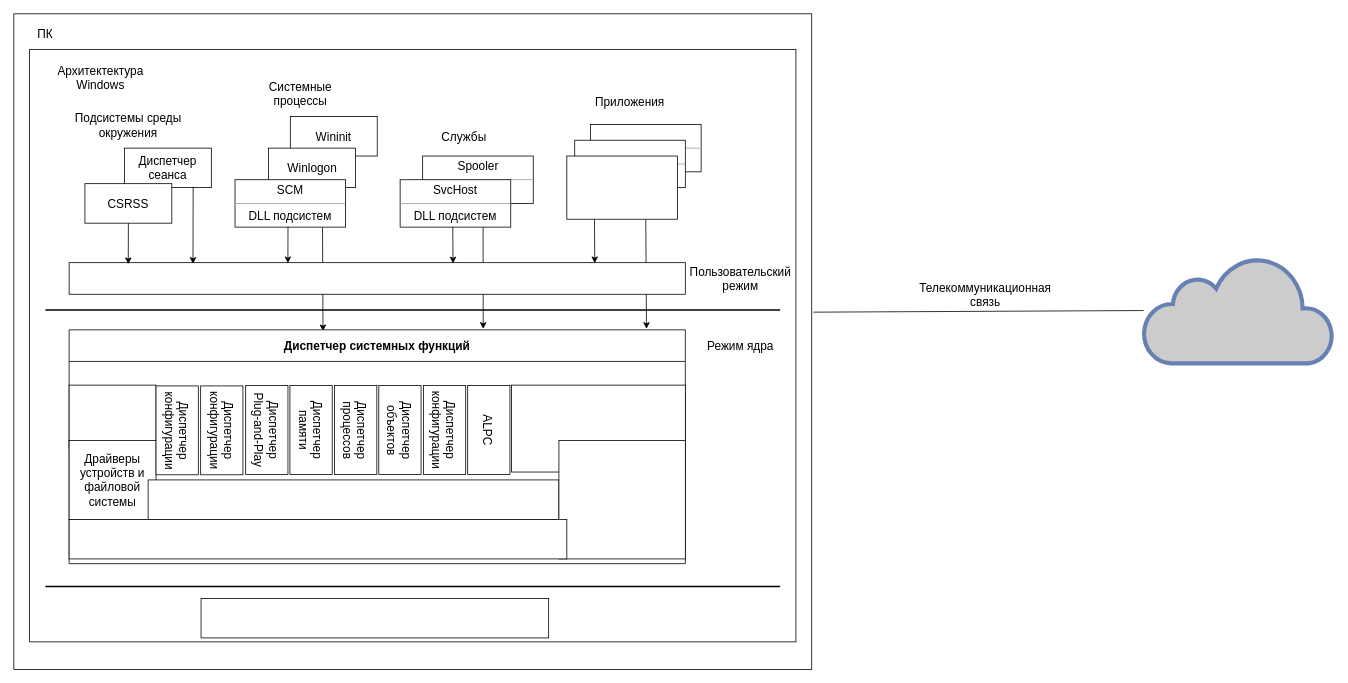
Image size: 1348x683. Some labels were removed from this diagram. The shapes that lost their labels are listed below. From the top down, each one's centre as x and y in pixels, then its label:
At (x=621, y=187): "Пользовательский процесс DLL подсистем".
At (x=376, y=278): "NTDLL.DLL".
At (x=1238, y=310): "Интернет".
At (x=112, y=416): "Диспетчер ввода/вывода".
At (x=598, y=428): "WIndows User, GDI".
At (x=353, y=499): "Ядро".
At (x=621, y=499): "Графические драйверы".
At (x=317, y=539): "Слой абстрагирования оборудования (HAL)".
At (x=374, y=618): "Гипервизор Hyper-V".
